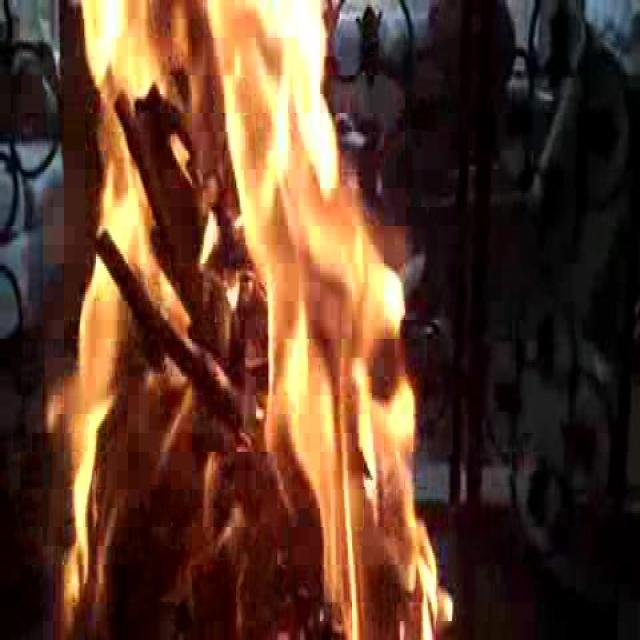fire: (45, 2, 432, 640)
